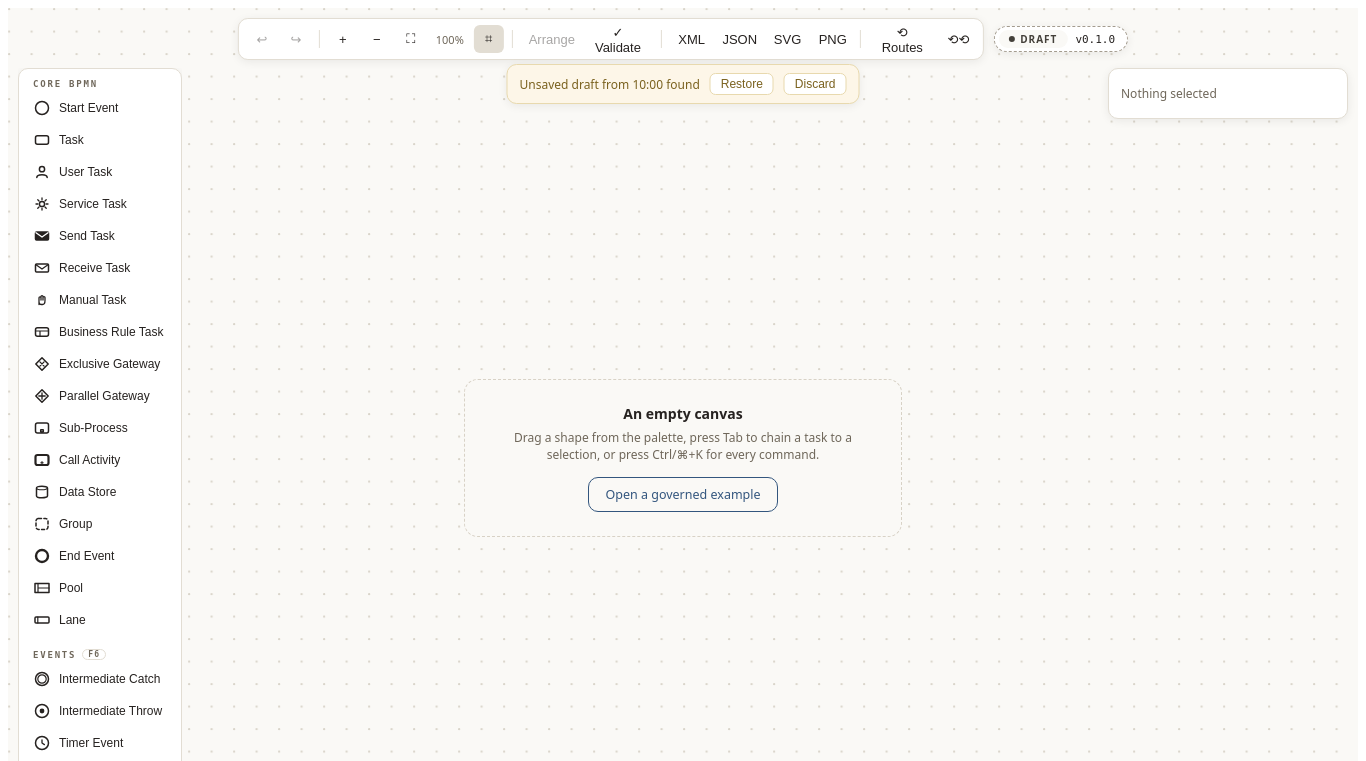
Test: D2 — autosave and recovery › discard clears the stored draft
Expected: the message "Unsaved draft from 10:00 found Restore Discard" is shown, [506,64,860,104]
Click the button "Discard" at (815,84), box [784,73,846,95]
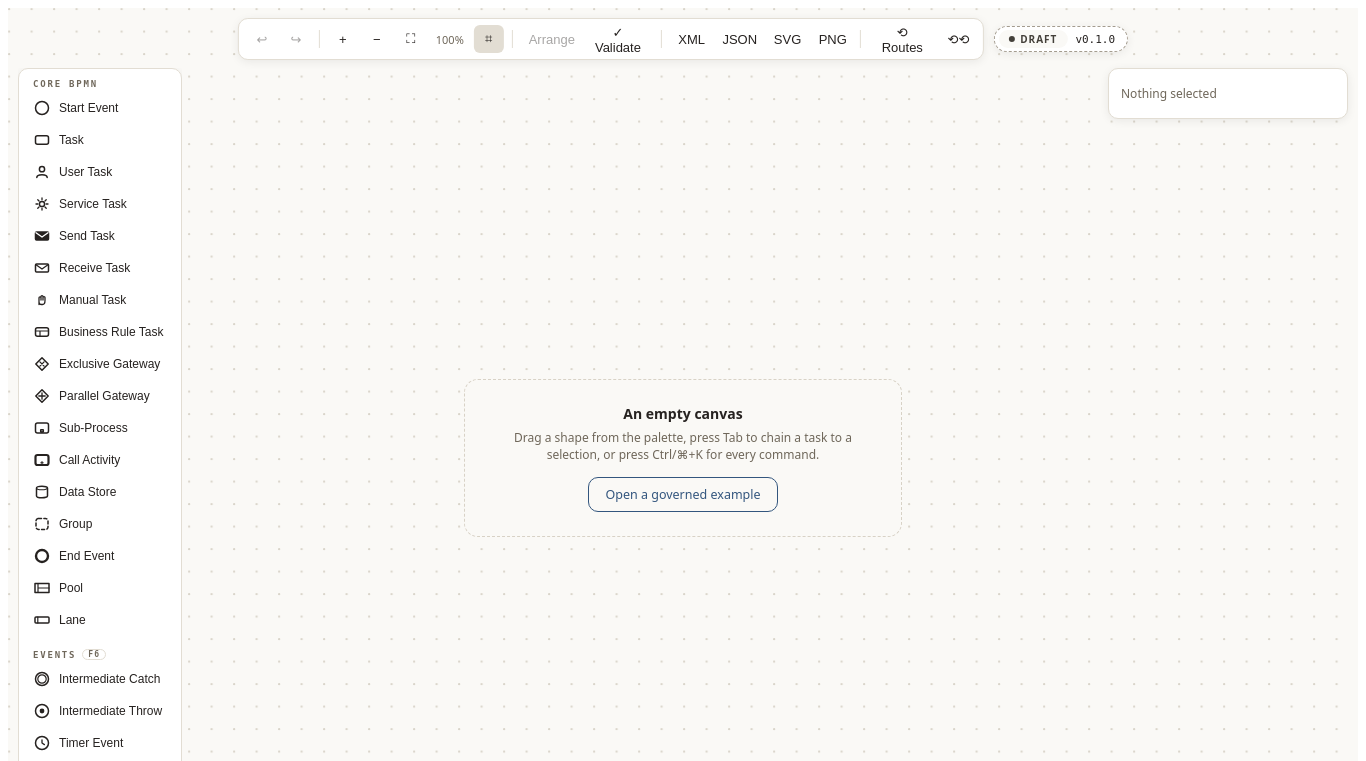
Result: the message "Unsaved draft from 10:00 found Restore Discard" is gone
